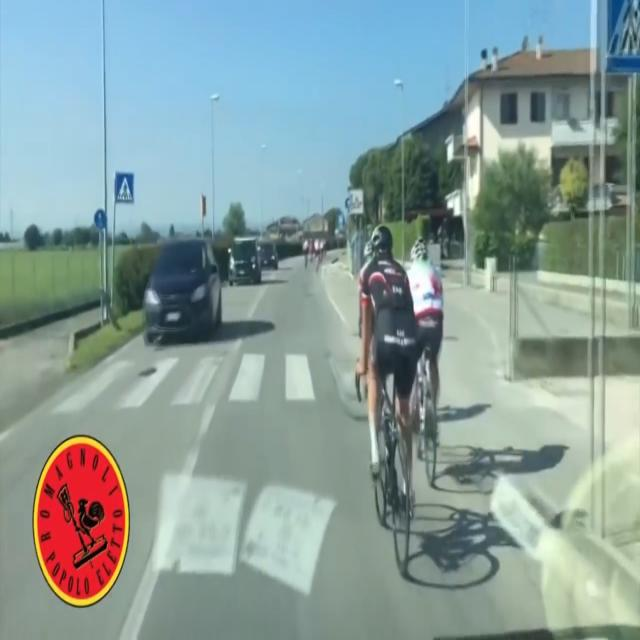Pedestrian crosswalk: (52, 337, 362, 414), (602, 0, 640, 71), (114, 169, 134, 204)
